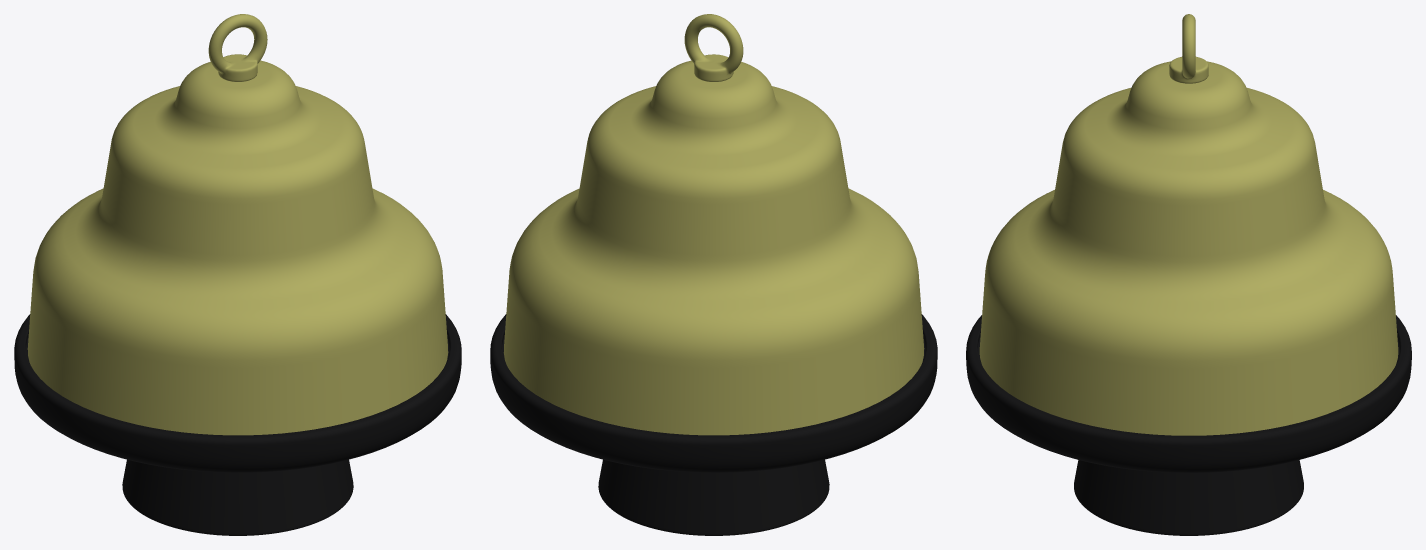
File: Incipit_Belle_Tall_mat(2).fbx
3 views of the same model, side by side, from view 1: azimuth 30°, elevation 25°; view 2: azimuth 150°, elevation 25°; view 3: azimuth 270°, elevation 25° (orthographic).
Parts seen in each view (by area): view 1: Incipit_Belle_Tall_mat2; view 2: Incipit_Belle_Tall_mat2; view 3: Incipit_Belle_Tall_mat2.
Part boxes in pixels (bbox=[...]): Incipit_Belle_Tall_mat2: bbox=[14, 14, 461, 535]; Incipit_Belle_Tall_mat2: bbox=[490, 14, 937, 535]; Incipit_Belle_Tall_mat2: bbox=[966, 14, 1411, 535].
Bounding box in the file's own units: 18 × 18 × 20.97.
